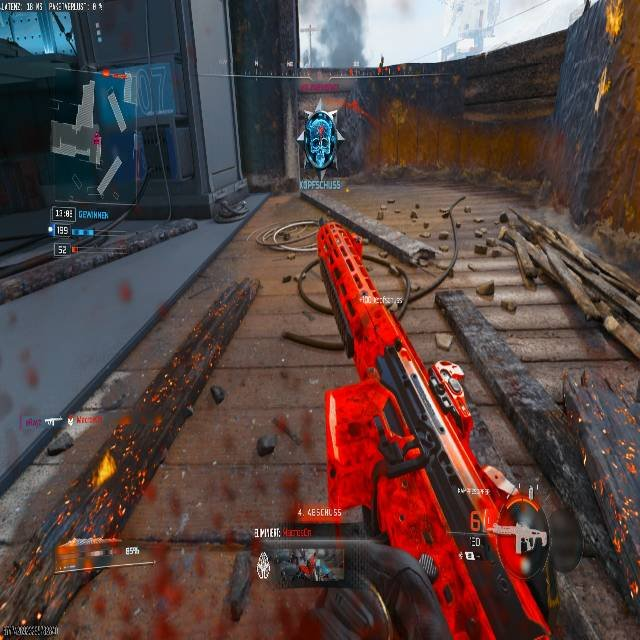head: (308, 99, 323, 115)
player: (296, 107, 341, 174)
